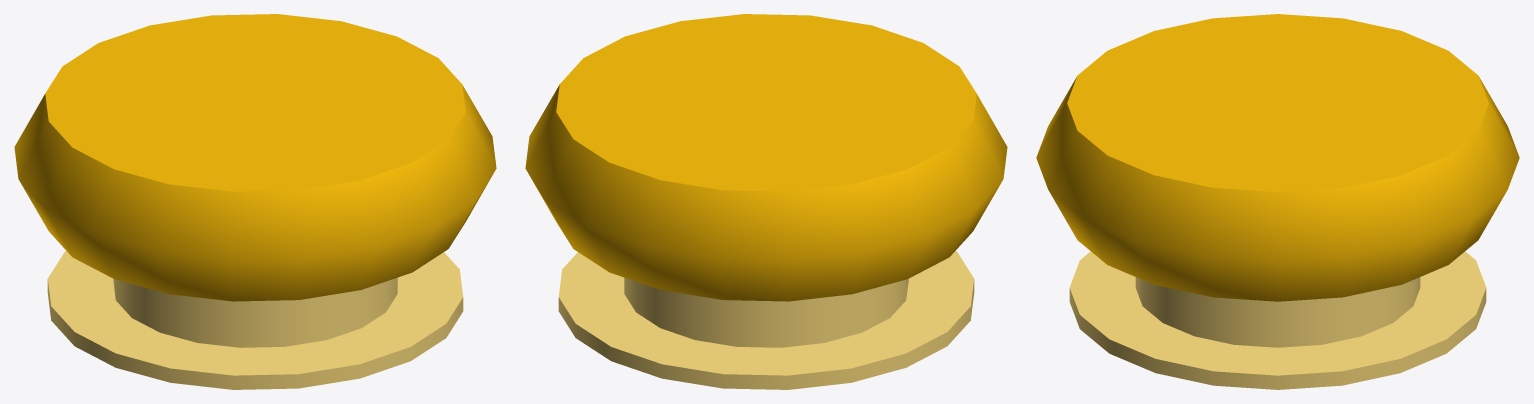
The model's file is Bumper.fbx.
The picture shows the model from 3 angles, left to right: view 1: azimuth 30°, elevation 25°; view 2: azimuth 150°, elevation 25°; view 3: azimuth 270°, elevation 25°; orthographic projection.
Visible parts, largest first — view 1: pCylinder2, pCylinder1; view 2: pCylinder2, pCylinder1; view 3: pCylinder2, pCylinder1.
Boxes of the visible parts, <box> form: pCylinder2: <box>14,14,496,301</box>; pCylinder1: <box>47,251,463,389</box>; pCylinder2: <box>525,14,1007,301</box>; pCylinder1: <box>558,251,974,389</box>; pCylinder2: <box>1036,14,1519,301</box>; pCylinder1: <box>1069,251,1486,389</box>.
Bounding box in the file's own units: 100 × 45.37 × 100.
Materials: 2 (2 with a texture image).
